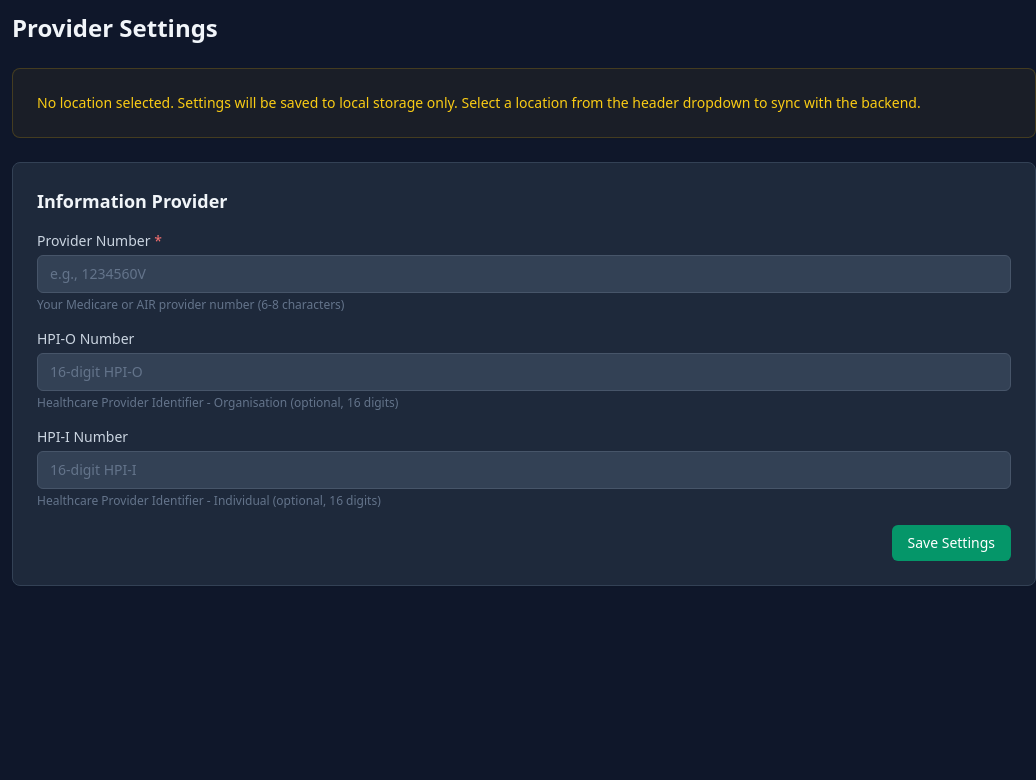
Test: SettingsPage › validates provider number length
The width and height of the screenshot is (1036, 780).
In the field with test id "provider-number": x=524, y=274 [37,255,1011,293], type "123"
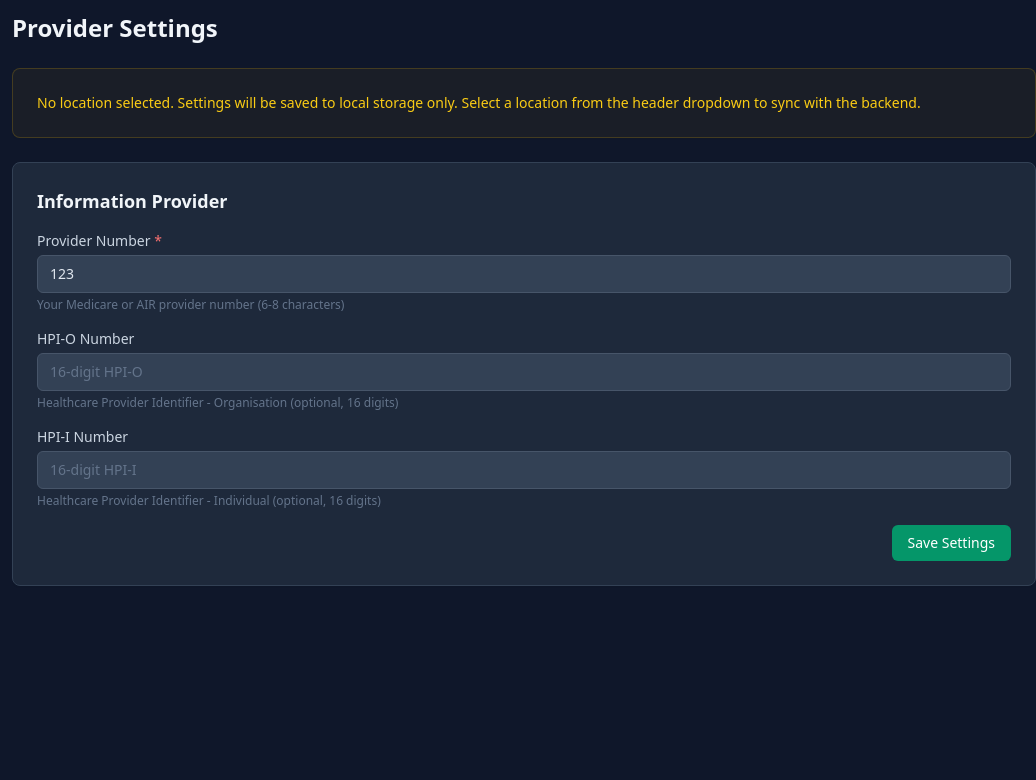
Click the button "Save Settings": x=951, y=543 [892,525,1011,561]
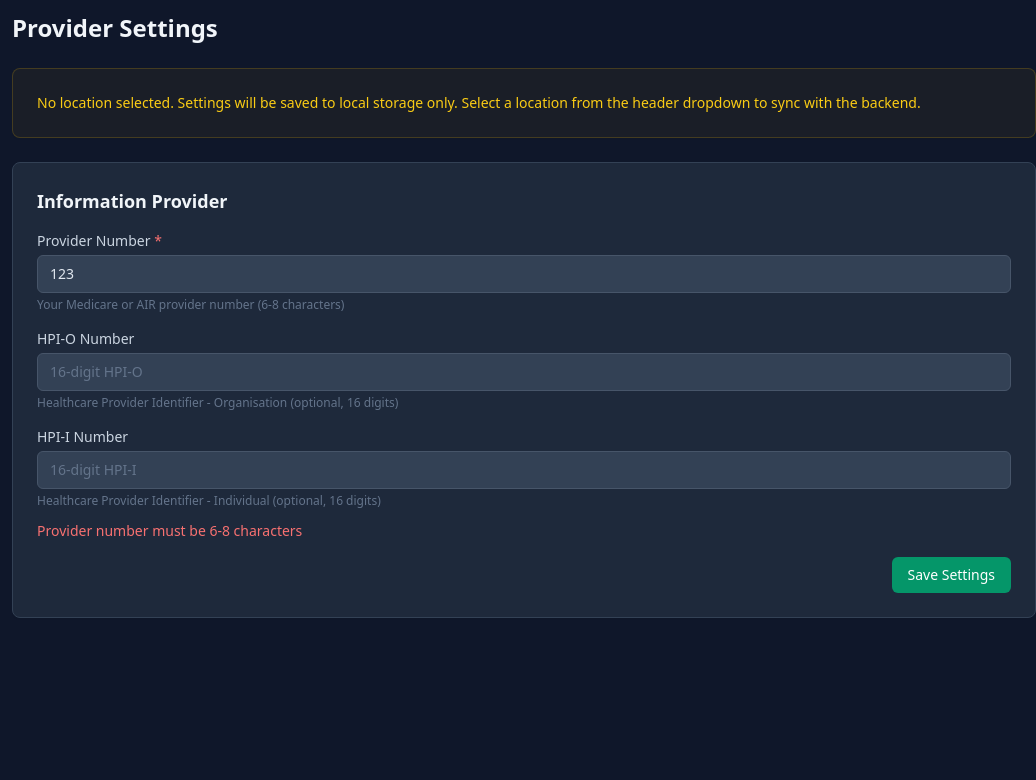
Expected: the text "Provider number must be 6-8 characters" is shown, [37,521,302,540]
